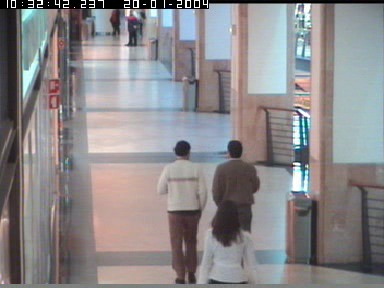person: (156, 140, 206, 284), (210, 139, 259, 284), (198, 199, 257, 284), (125, 10, 143, 46), (125, 14, 138, 46), (110, 10, 121, 38)
